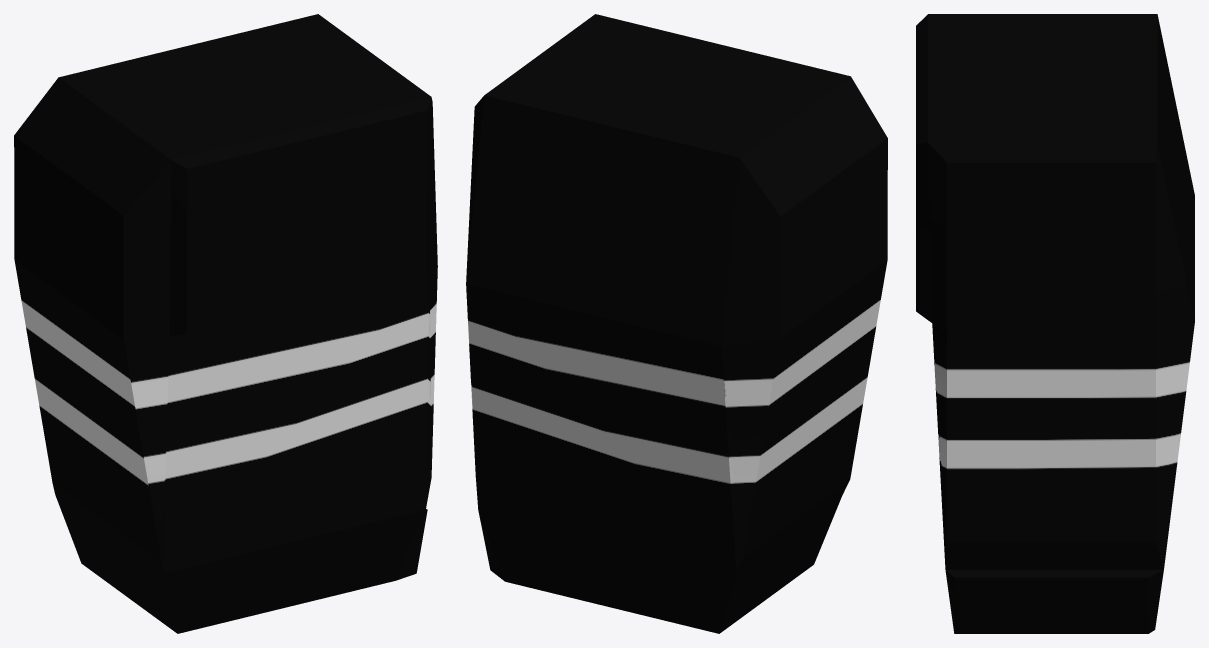
The model's file is leftthigh.obj.
3 views of the same model, side by side, from view 1: azimuth 30°, elevation 25°; view 2: azimuth 150°, elevation 25°; view 3: azimuth 270°, elevation 25° (orthographic). The views are drawn at different scales.
Parts seen in each view (by area): view 1: pCube1 pCube2; view 2: pCube1 pCube2; view 3: pCube1 pCube2.
Part boxes in pixels (x1,y1,x2,y2): pCube1 pCube2: (14,14,437,633); pCube1 pCube2: (466,14,887,633); pCube1 pCube2: (916,14,1194,633).
Bounding box in the file's own units: 0.7385 × 1.09 × 0.5521.
Materials: 1 (1 with a texture image).
